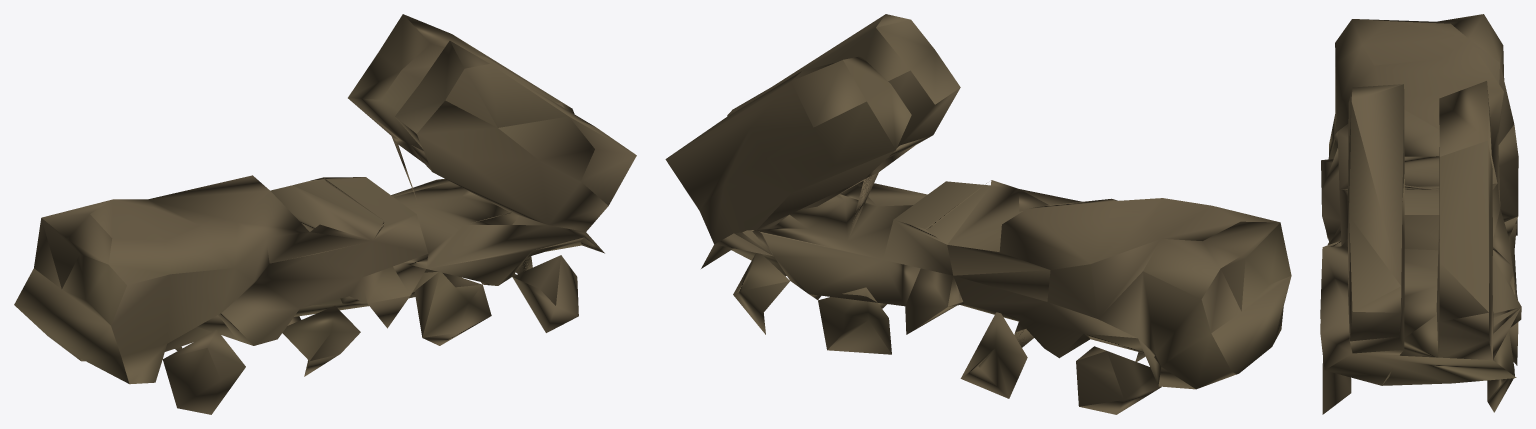
File: coastal-defense-tel-meshy-ultra-v2.glb
3 renders of one model, left to right at view 1: azimuth 30°, elevation 25°; view 2: azimuth 150°, elevation 25°; view 3: azimuth 270°, elevation 25°, orthographic. The views are drawn at different scales.
Size of the model in its own units: 1.89 by 0.9201 by 0.5666.
